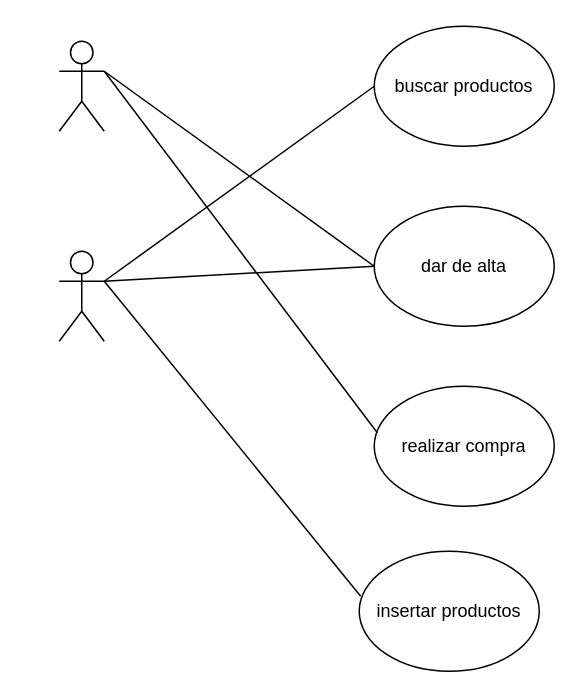
Image size: 581x698. Some labels were removed from this diagram. The centre of each missing label's shape, as x and y in pixels:
Administrativo: [81,295]
Cliente: [81,85]
